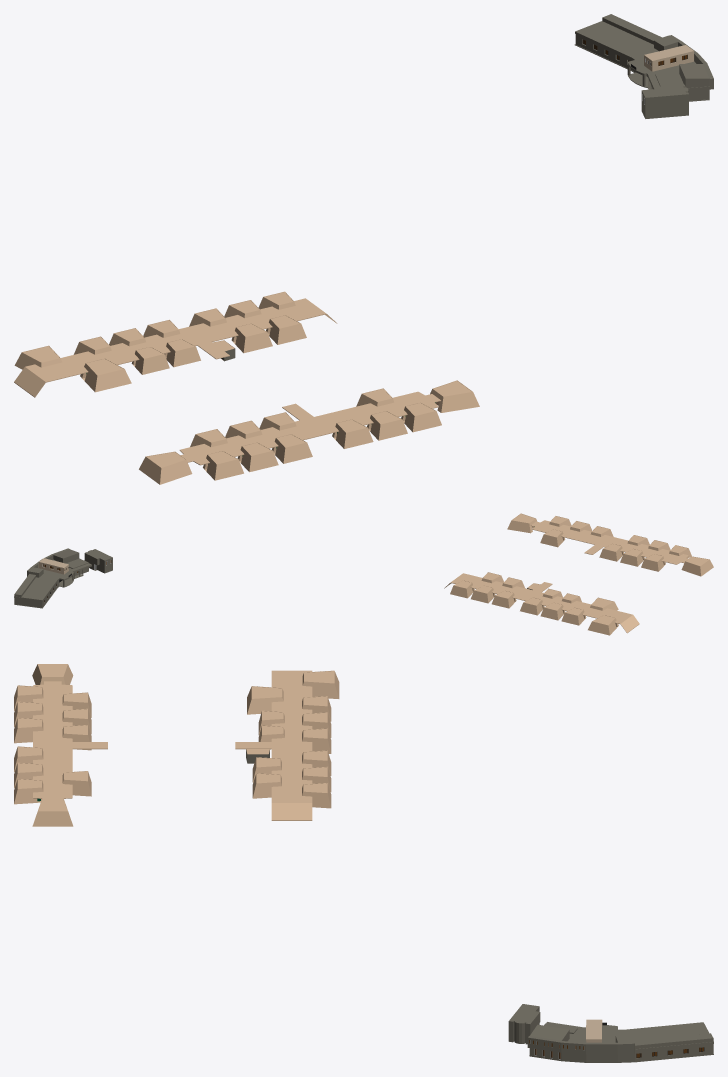
File: amphis to info.gltf
3 views of the same model, one above another, from view 1: azimuth 30°, elevation 25°; view 2: azimuth 150°, elevation 25°; view 3: azimuth 270°, elevation 25° (orthographic). The views are drawn at different scales.
Visible parts, largest first — view 1: amphiA-L, amphiM-X, dep info; view 2: amphiA-L, amphiM-X, dep info; view 3: amphiA-L, amphiM-X, dep info.
Boxes of the visible parts, left/top/right/bottom form: amphiA-L: left=14, top=291, right=337, bottom=397; amphiM-X: left=139, top=380, right=479, bottom=484; dep info: left=574, top=14, right=713, bottom=118; amphiA-L: left=444, top=572, right=639, bottom=635; amphiM-X: left=507, top=513, right=713, bottom=576; dep info: left=14, top=548, right=112, bottom=608; amphiA-L: left=235, top=670, right=339, bottom=820; amphiM-X: left=14, top=664, right=107, bottom=826; dep info: left=508, top=1004, right=713, bottom=1062.
Bounding box in the file's own units: 636 × 20.24 × 483.
1 material, 1 textured.
